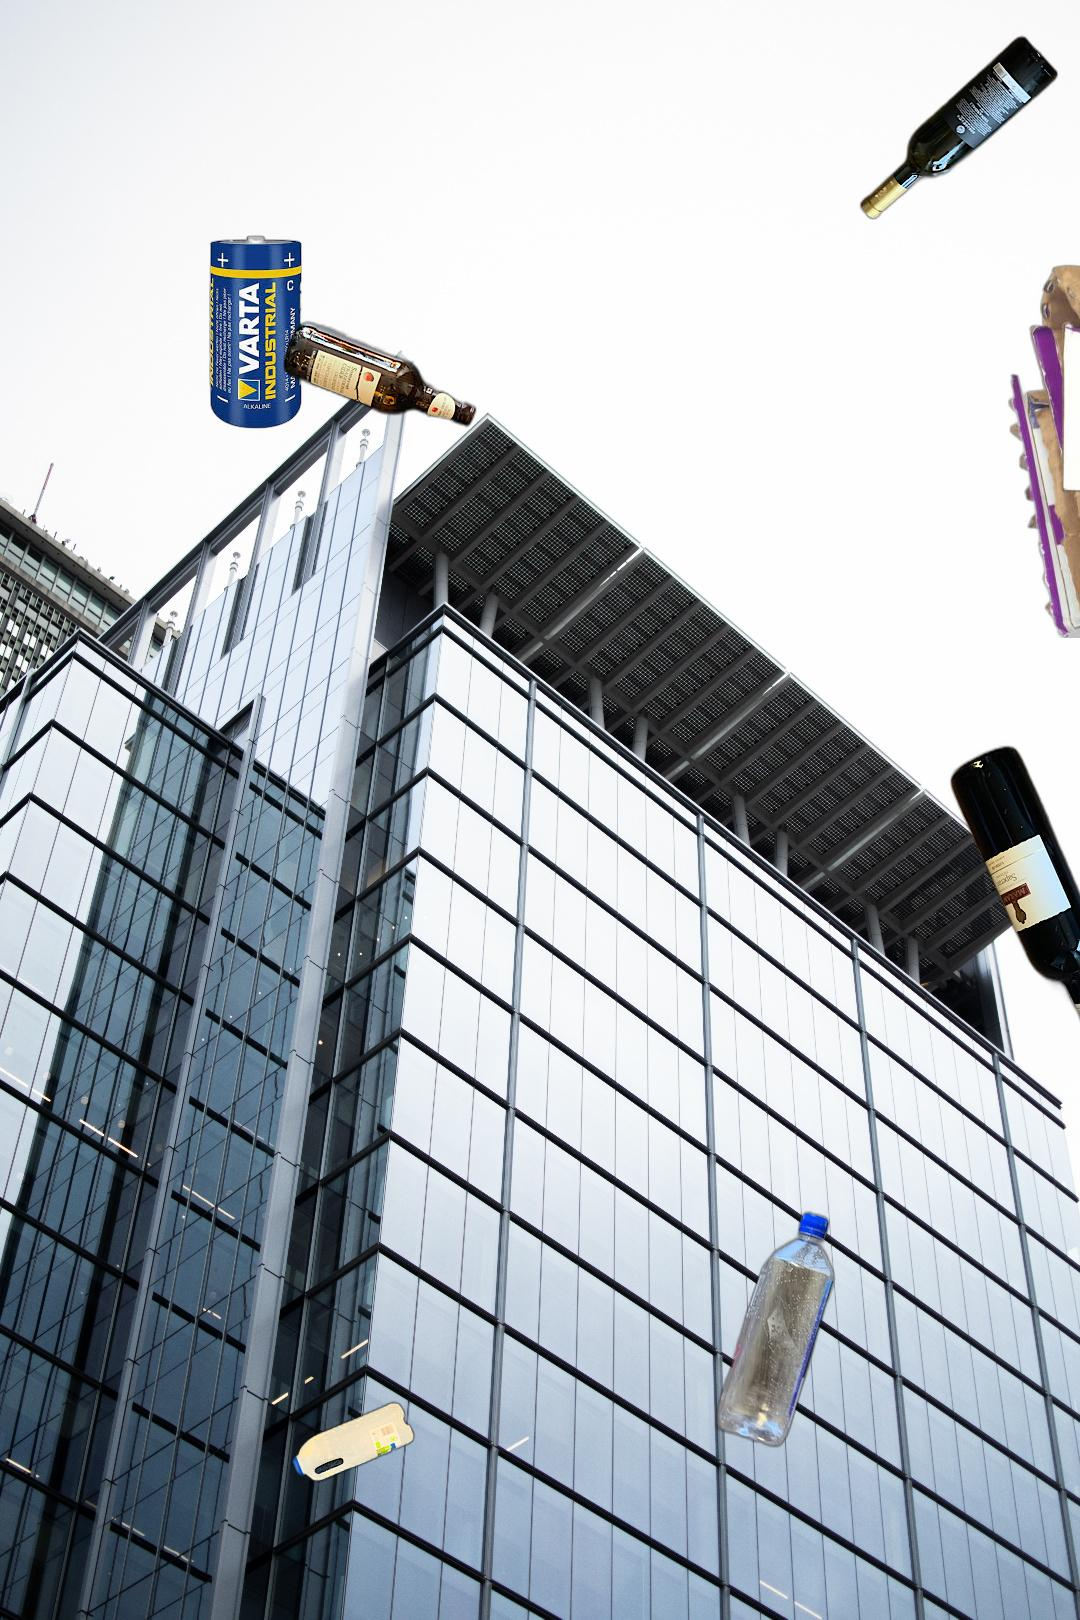battery: (207, 233, 304, 432)
glass: (946, 740, 1080, 1063), (857, 30, 1061, 225), (278, 316, 481, 432)
plastic-bottles: (712, 1207, 839, 1452), (288, 1397, 418, 1487)
trashbox-cardboard: (1005, 262, 1080, 638)
